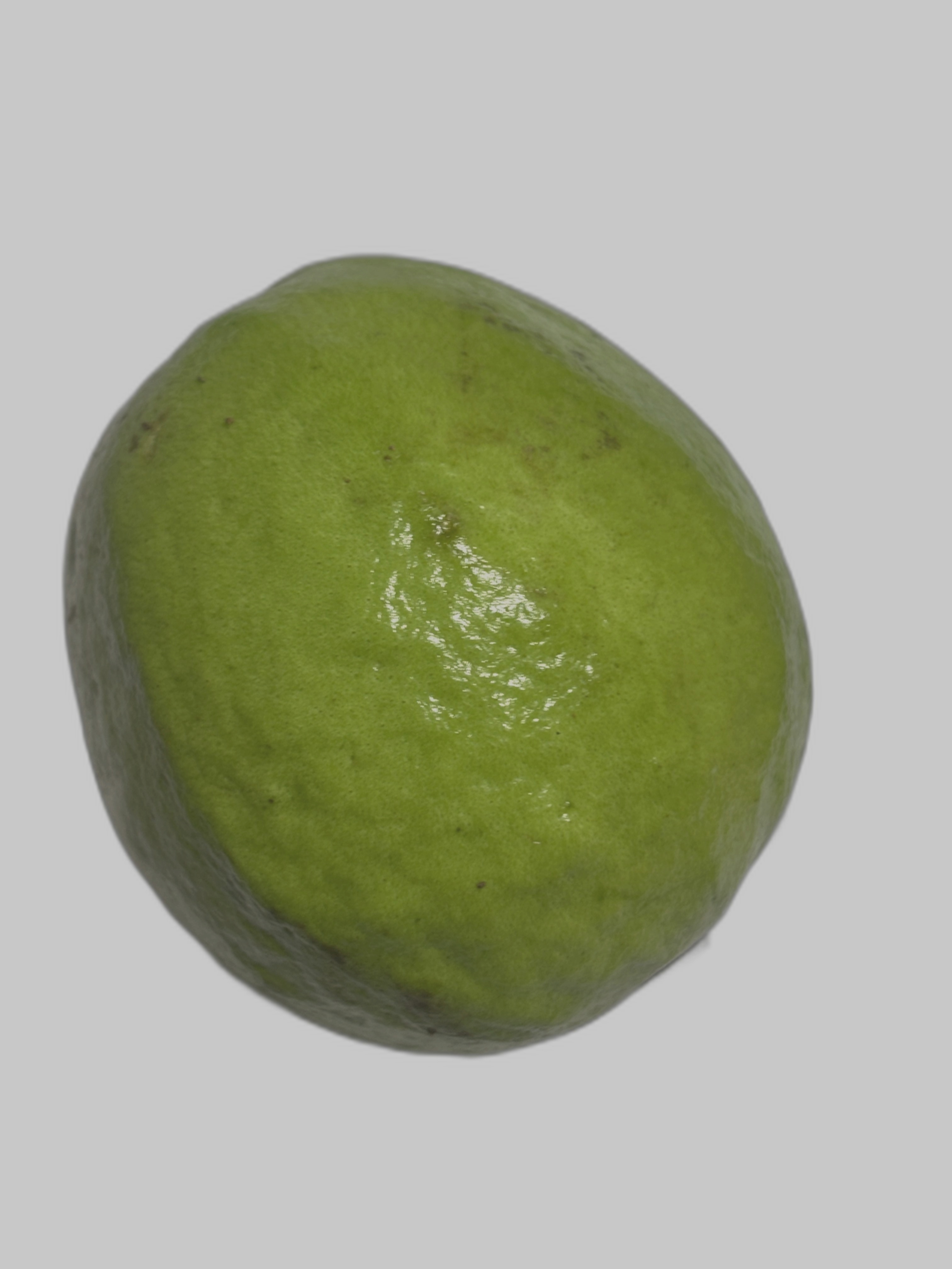guava: (150, 260, 892, 1098)
